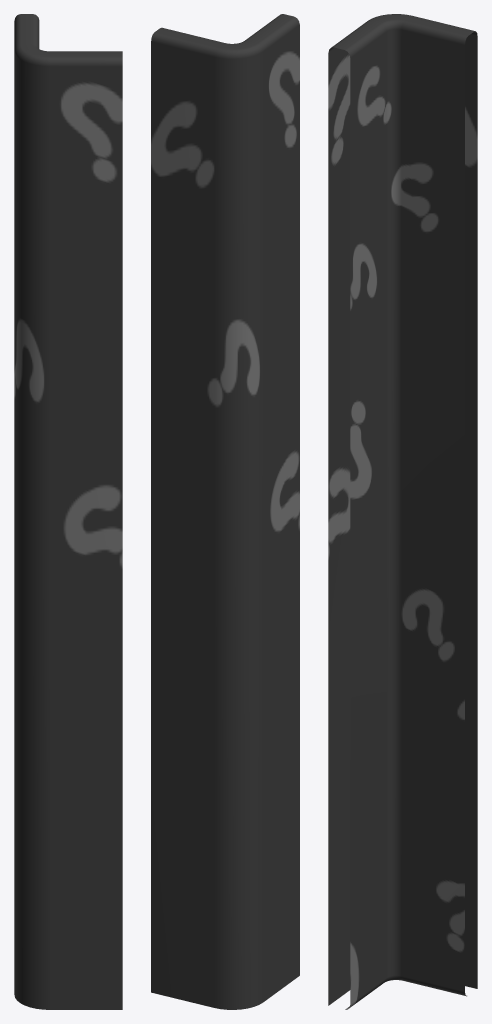
Rendered from HammerBox_01.fbx.
The picture shows the model from 3 angles, left to right: view 1: azimuth 90°, elevation 25°; view 2: azimuth 150°, elevation 25°; view 3: azimuth 330°, elevation 25°; orthographic projection.
Visible parts, largest first — view 1: HammerBox_01.002; view 2: HammerBox_01.002; view 3: HammerBox_01.002.
Boxes of the visible parts, x1,y1,x2,y2 form: HammerBox_01.002: (14,14,122,1009); HammerBox_01.002: (151,14,299,1009); HammerBox_01.002: (328,14,477,1009).
Size of the model in its own units: 129 by 1251 by 129.
